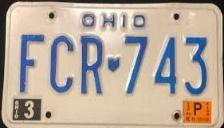3: (182, 35, 210, 96)
4: (153, 34, 181, 97)
7: (117, 34, 151, 97)
C: (48, 33, 77, 95)
F: (19, 32, 47, 98)
R: (78, 33, 106, 97)
